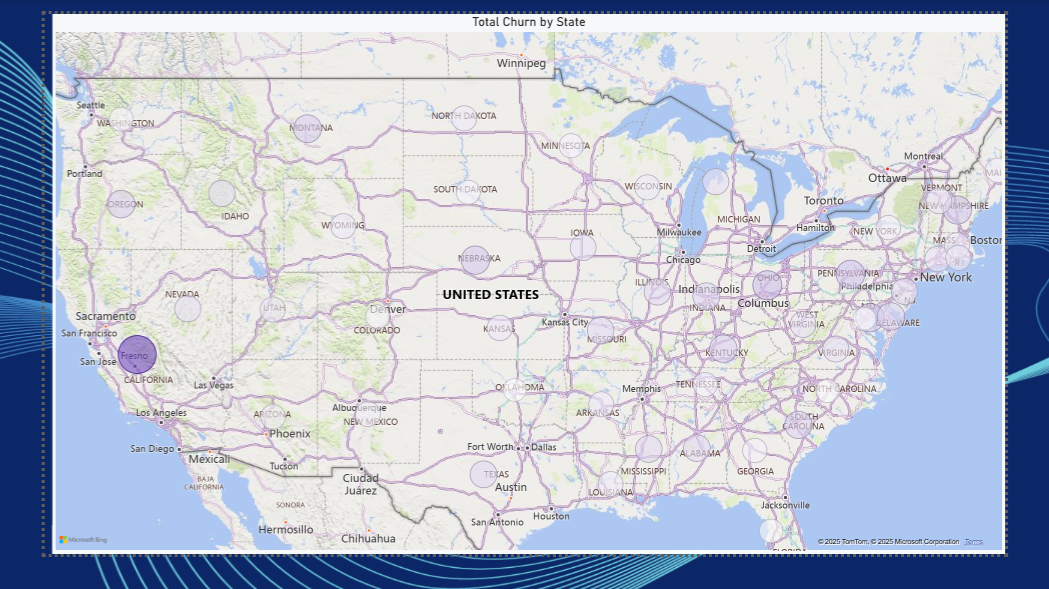

This screenshot's page, from the dashboard's own definition file:
{"tool":"powerbi","page":{"name":"Churn by State","canvas":[1280,720],"ordinal":3},"visuals":[{"type":"map","title":"Total Churn by State","fields":{"Size":["Databel - Data.Churn Rate"],"Category":["Databel - Data.State"]},"box":[9.6,0,1270.7,720.4],"z":0}]}

Visuals, with their boxes in screenshot pixels (x1, y1, x2, y2), scaled from the page's 1280x720 canvas onto the 1049x589 screenshot:
"Total Churn by State" map: detection(8, 0, 1048, 588)
